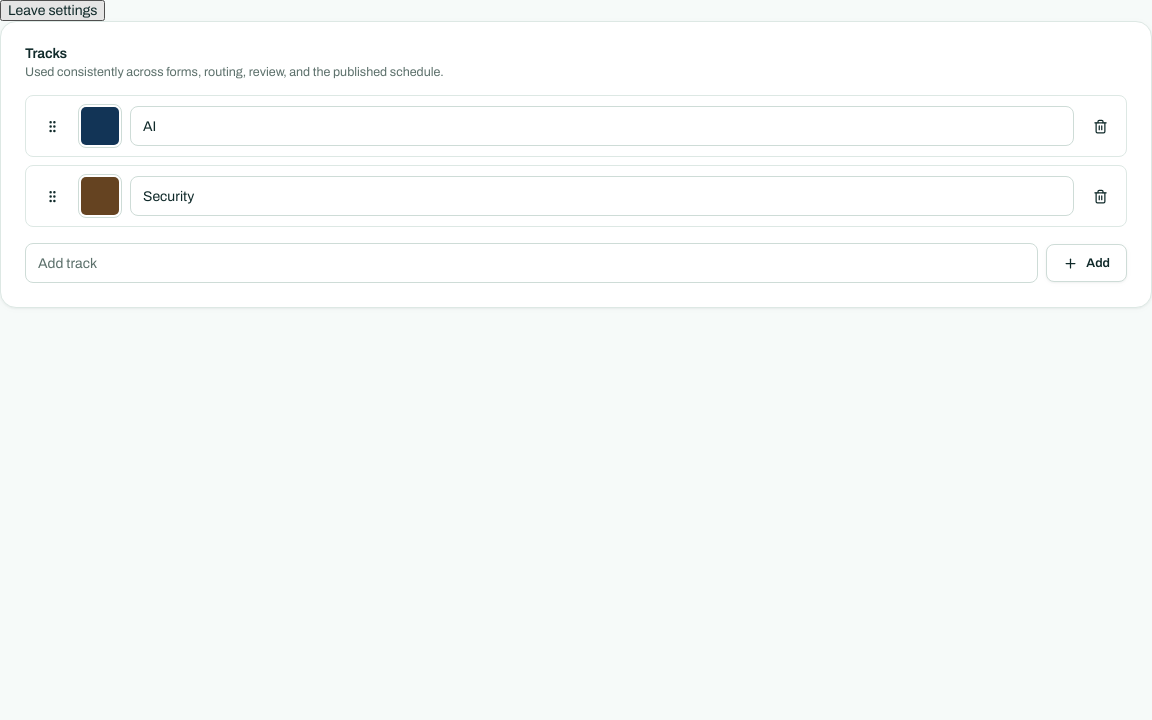
Scenario: vocabulary deletion recovery › keeps a dependency conflict visible and editable after authoritative reload
Step 1. Click the button named "Remove AI" → [1100, 126], box [1082,108,1118,144]
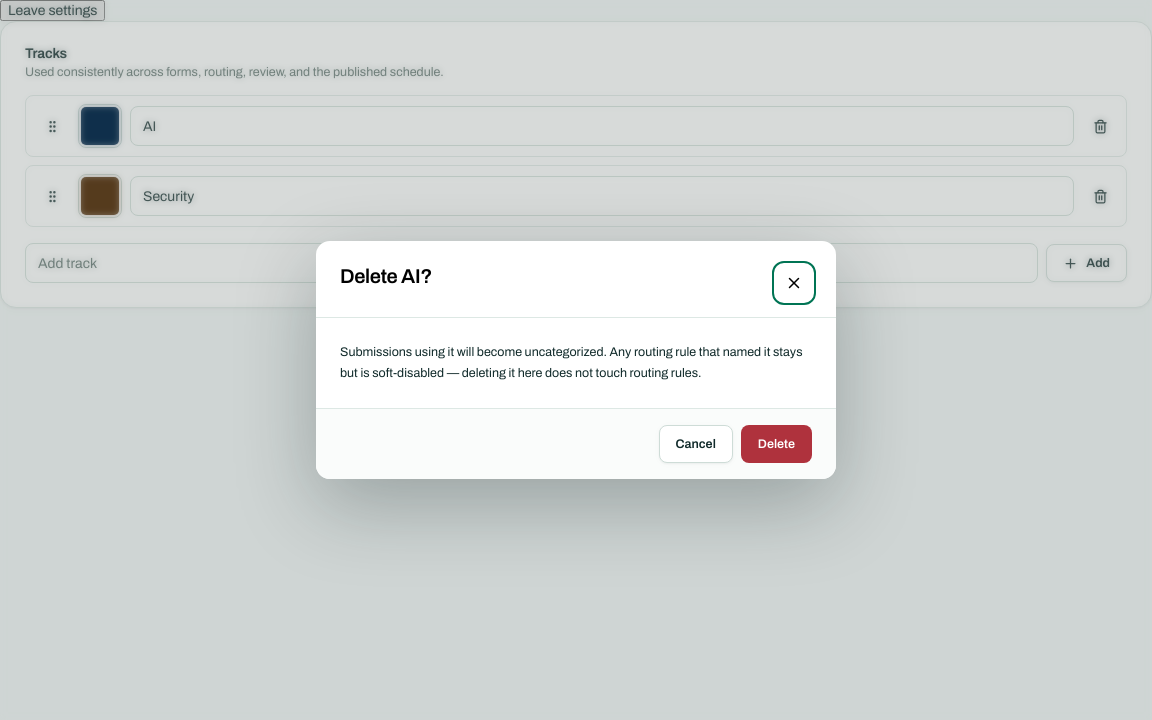
Step 2. Click the button "Delete" → [776, 444], box [741,425,812,463]
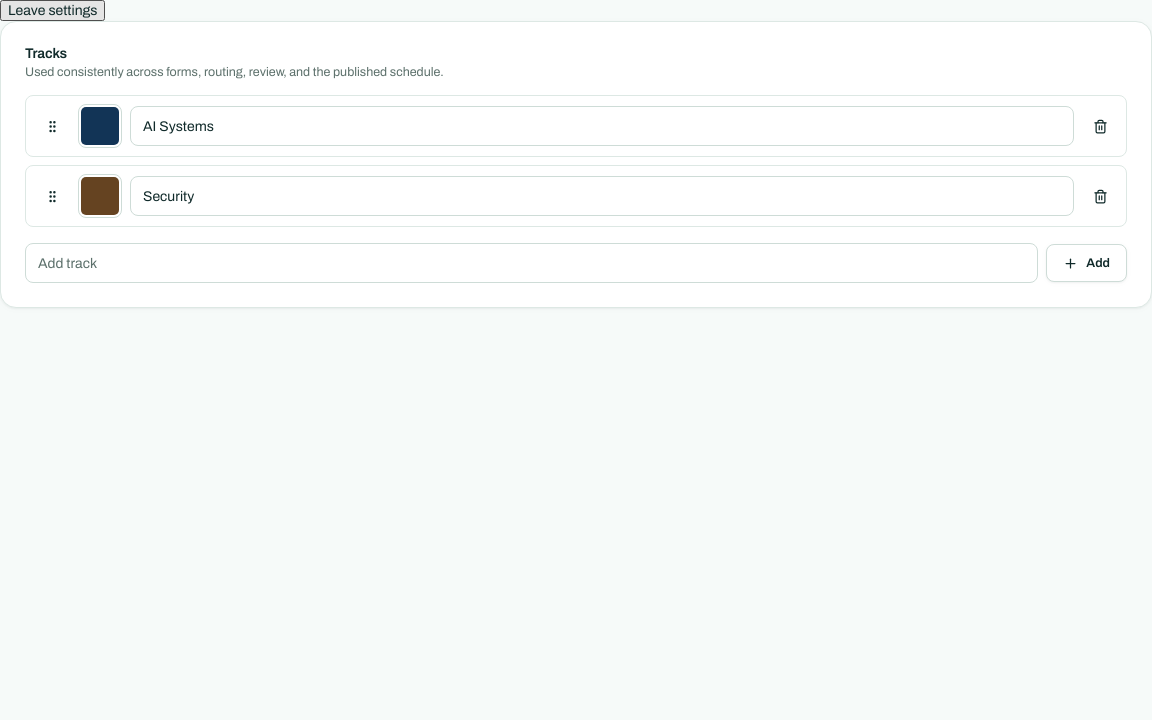
Expected: the 1st field named "Name" is enabled, [130,106,1074,146]
Expected: the 1st field named "Name" holds "AI Systems", [130,106,1074,146]
